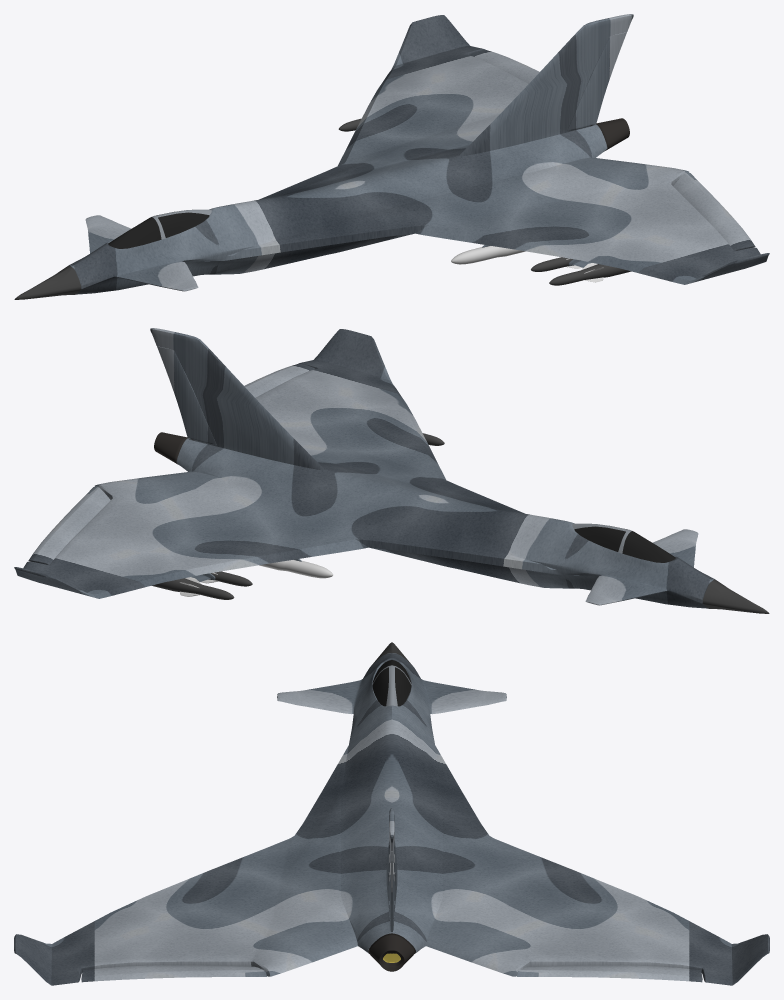
Rendered from sky_fighter_military_jet.glb.
3 views of the same model, one above another, from view 1: azimuth 30°, elevation 25°; view 2: azimuth 150°, elevation 25°; view 3: azimuth 270°, elevation 25° (orthographic). The views are drawn at different scales.
Visible parts, largest first — view 1: Object_13, Object_12, Object_4, Object_14, Object_6, Object_8, Object_3; view 2: Object_13, Object_12, Object_4, Object_15, Object_6, Object_8, Object_3; view 3: Object_13, Object_12, Object_4, Object_3.
Boxes of the visible parts, x1,y1,x2,y2 form: Object_13: (68,46,760,294); Object_12: (115,14,769,291); Object_4: (108,212,209,248); Object_14: (531,257,631,285); Object_6: (14,265,81,299); Object_8: (451,246,525,264); Object_3: (590,118,629,150); Object_13: (23,360,715,608); Object_12: (14,328,668,605); Object_4: (574,526,675,562); Object_15: (151,571,252,599); Object_6: (702,579,769,613); Object_8: (259,560,332,578); Object_3: (154,432,193,464); Object_13: (51,653,732,985); Object_12: (14,808,769,985); Object_4: (372,660,411,706); Object_3: (368,933,415,971).
Size of the model in its own units: 31.27 by 7.82 by 28.45.
11 materials, 2 textured.
